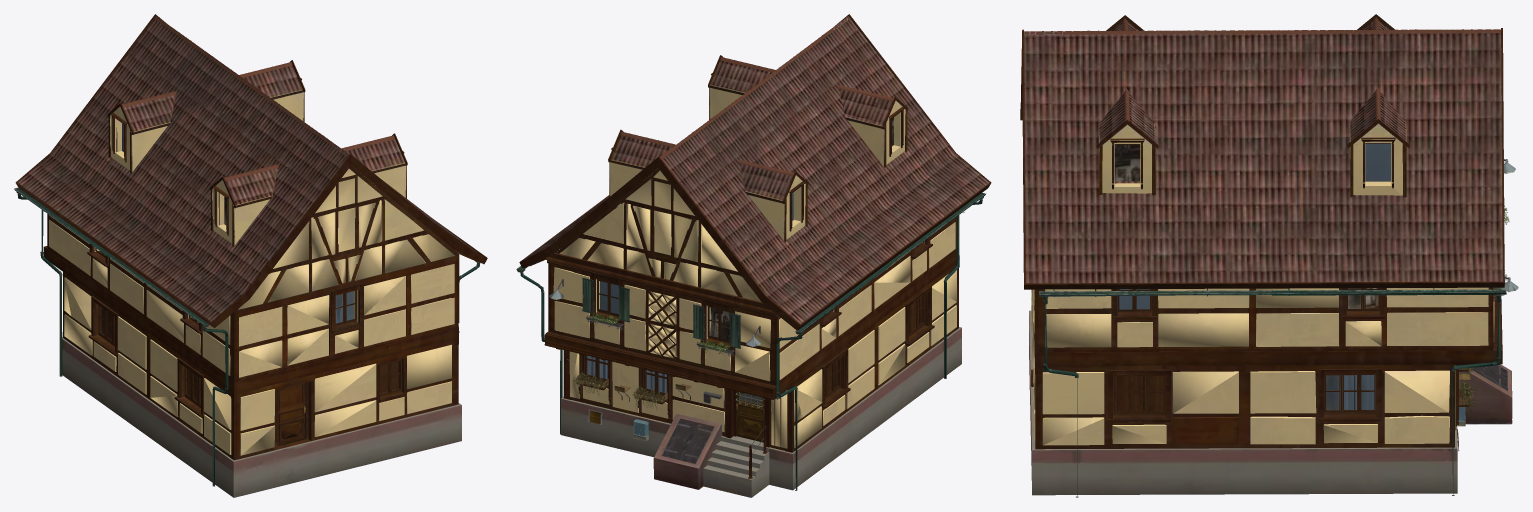
Rendered from casa_entramado_c.glb.
3 views of the same model, side by side, from view 1: azimuth 30°, elevation 25°; view 2: azimuth 150°, elevation 25°; view 3: azimuth 270°, elevation 25° (orthographic). The views are drawn at different scales.
Parts seen in each view (by area): view 1: XI_GV_House_Yellow.Shape_XI_GV_House_Yellow_TopFlr_mat_0, XI_GV_House_Yellow.Shape_XI_GV_House_Yellow_GrndFlr_mat_0, XI_GV_House_Yellow.Shape_XI_GV_House_Yellow_FirstFlr_mat_0; view 2: XI_GV_House_Yellow.Shape_XI_GV_House_Yellow_TopFlr_mat_0, XI_GV_House_Yellow.Shape_XI_GV_House_Yellow_GrndFlr_mat_0, XI_GV_House_Yellow.Shape_XI_GV_House_Yellow_FirstFlr_mat_0, XI_GV_House_Yellow.Shape_XI_GV_F_Window_flowers02_L_MAT_0; view 3: XI_GV_House_Yellow.Shape_XI_GV_House_Yellow_TopFlr_mat_0, XI_GV_House_Yellow.Shape_XI_GV_House_Yellow_GrndFlr_mat_0, XI_GV_House_Yellow.Shape_XI_GV_House_Yellow_FirstFlr_mat_0, XI_GV_House_Yellow.Shape_XI_GV_House_Yellow_Glass_mat_0.
Boxes of the visible parts, x1,y1,x2,y2 form: XI_GV_House_Yellow.Shape_XI_GV_House_Yellow_TopFlr_mat_0: [14, 14, 487, 486]; XI_GV_House_Yellow.Shape_XI_GV_House_Yellow_GrndFlr_mat_0: [43, 246, 461, 497]; XI_GV_House_Yellow.Shape_XI_GV_House_Yellow_FirstFlr_mat_0: [47, 203, 459, 382]; XI_GV_House_Yellow.Shape_XI_GV_House_Yellow_TopFlr_mat_0: [516, 14, 991, 490]; XI_GV_House_Yellow.Shape_XI_GV_House_Yellow_GrndFlr_mat_0: [544, 251, 961, 497]; XI_GV_House_Yellow.Shape_XI_GV_House_Yellow_FirstFlr_mat_0: [546, 204, 959, 385]; XI_GV_House_Yellow.Shape_XI_GV_F_Window_flowers02_L_MAT_0: [574, 373, 664, 407]; XI_GV_House_Yellow.Shape_XI_GV_House_Yellow_TopFlr_mat_0: [1020, 14, 1506, 497]; XI_GV_House_Yellow.Shape_XI_GV_House_Yellow_GrndFlr_mat_0: [1029, 289, 1512, 495]; XI_GV_House_Yellow.Shape_XI_GV_House_Yellow_FirstFlr_mat_0: [1033, 159, 1518, 352]; XI_GV_House_Yellow.Shape_XI_GV_House_Yellow_Glass_mat_0: [1326, 288, 1360, 410].
Bounding box in the file's own units: 8.46 × 9 × 10.24.
7 materials, 7 textured.
